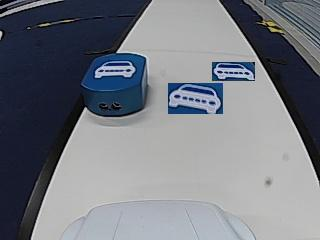safety: (95, 60, 138, 78)
